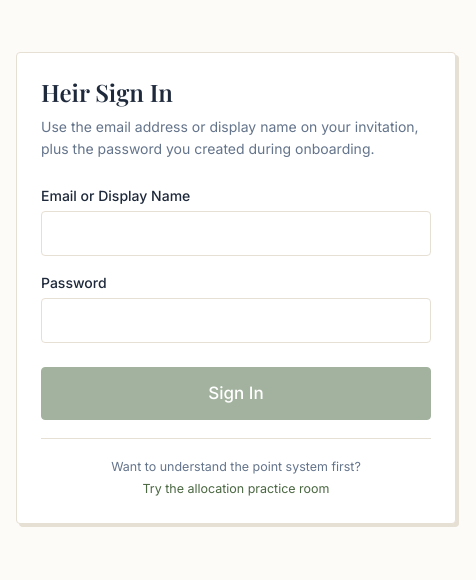
Scenario: HeirLoginPage › shows login errors
The width and height of the screenshot is (476, 580).
Type "heir@example.com" into the field labelled "Email or Display Name" at (236, 233), box [41,211,431,256]
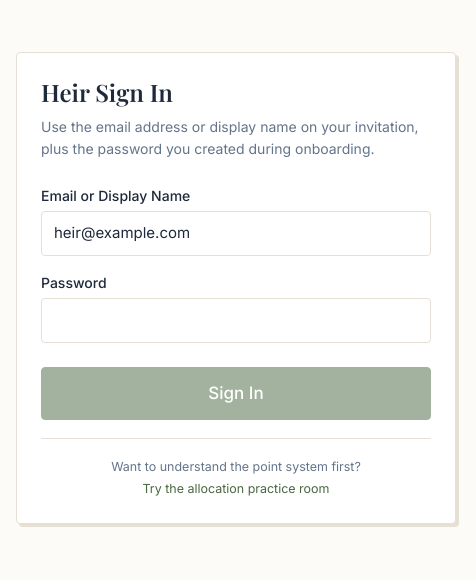
Type "wrongpass" into the password field labelled "Password" at (236, 320), box [41,298,431,342]
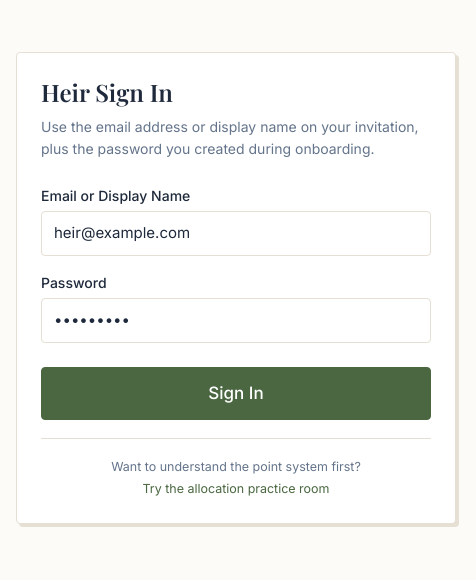
Click the button "Sign In" at (236, 393), box [41,366,431,420]
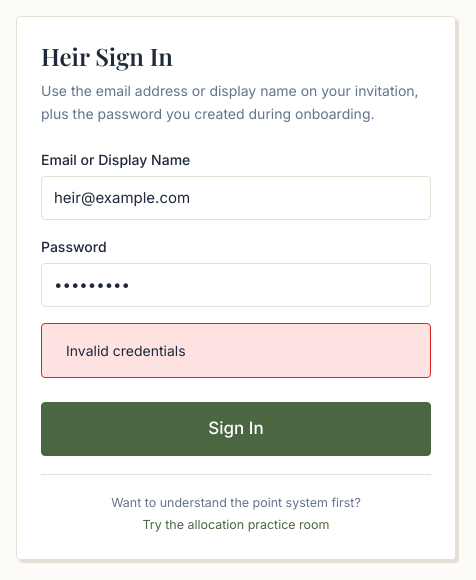
Now the text "Invalid credentials" is shown, box [41,323,431,378]
